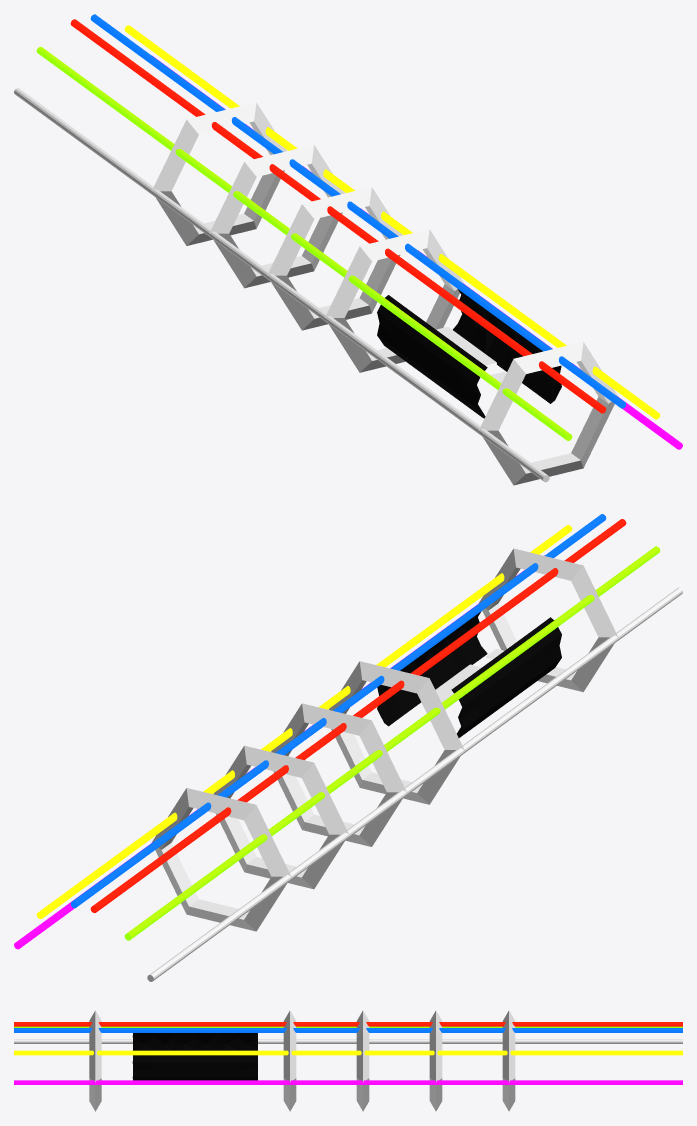
The model's file is map.fbx.
3 views of the same model, one above another, from view 1: azimuth 30°, elevation 25°; view 2: azimuth 150°, elevation 25°; view 3: azimuth 270°, elevation 25° (orthographic). The views are drawn at different scales.
Parts seen in each view (by area): view 1: DecoWalls, Torus.001, Cylinder.005, Cylinder.004, Torus.005, Torus.003, Torus.004, Cylinder.001, Cylinder.002, Torus.002, Cylinder.003, Cylinder.006; view 2: DecoWalls, Torus.005, Cylinder.005, Cylinder.004, Torus.003, Torus.002, Torus.004, Cylinder.001, Cylinder.002, Torus.001, Cylinder.003, Cylinder.006; view 3: DecoWalls, Cylinder.003, Cylinder.006, Cylinder.001, Cylinder.002, Cylinder.005, Cylinder.004, Torus.003, Torus.004, Torus.005, Torus.002, Torus.001.
Boxes of the visible parts, bbox=[...] form: DecoWalls: bbox=[377, 289, 561, 418]; Torus.001: bbox=[478, 341, 618, 485]; Cylinder.005: bbox=[14, 88, 549, 482]; Cylinder.004: bbox=[36, 46, 572, 440]; Torus.005: bbox=[151, 102, 287, 245]; Torus.003: bbox=[267, 187, 402, 330]; Torus.004: bbox=[209, 144, 344, 288]; Cylinder.001: bbox=[90, 14, 626, 408]; Cylinder.002: bbox=[70, 19, 606, 413]; Torus.002: bbox=[325, 229, 464, 372]; Cylinder.003: bbox=[124, 25, 660, 419]; Cylinder.006: bbox=[152, 55, 682, 449]; DecoWalls: bbox=[377, 611, 561, 737]; Torus.005: bbox=[152, 788, 291, 931]; Cylinder.005: bbox=[147, 587, 682, 981]; Cylinder.004: bbox=[124, 546, 660, 940]; Torus.003: bbox=[271, 703, 406, 846]; Torus.002: bbox=[329, 661, 464, 804]; Torus.004: bbox=[213, 745, 348, 889]; Cylinder.001: bbox=[70, 514, 606, 908]; Cylinder.002: bbox=[90, 519, 626, 912]; Torus.001: bbox=[479, 548, 618, 692]; Cylinder.003: bbox=[36, 525, 572, 919]; Cylinder.006: bbox=[14, 555, 544, 949]; DecoWalls: bbox=[132, 1033, 257, 1080]; Cylinder.003: bbox=[14, 1050, 682, 1055]; Cylinder.006: bbox=[14, 1080, 682, 1084]; Cylinder.001: bbox=[14, 1028, 682, 1032]; Cylinder.002: bbox=[14, 1022, 682, 1026]; Cylinder.005: bbox=[14, 1039, 682, 1043]; Cylinder.004: bbox=[14, 1026, 682, 1027]; Torus.003: bbox=[356, 1010, 369, 1111]; Torus.004: bbox=[429, 1010, 442, 1111]; Torus.005: bbox=[502, 1010, 515, 1111]; Torus.002: bbox=[283, 1010, 296, 1111]; Torus.001: bbox=[89, 1010, 101, 1111].
Bounding box in the file's own units: 4200 × 3636 × 27500.
